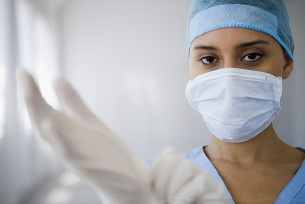Mask: (184, 36, 291, 143)
